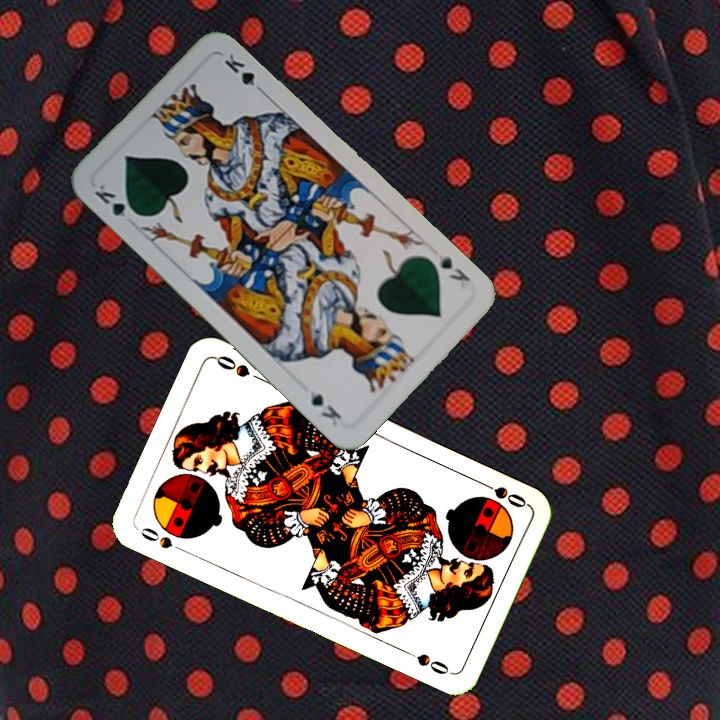GK: (90, 180, 142, 220), (432, 250, 473, 285)
SO: (474, 476, 529, 511), (136, 523, 189, 556)
